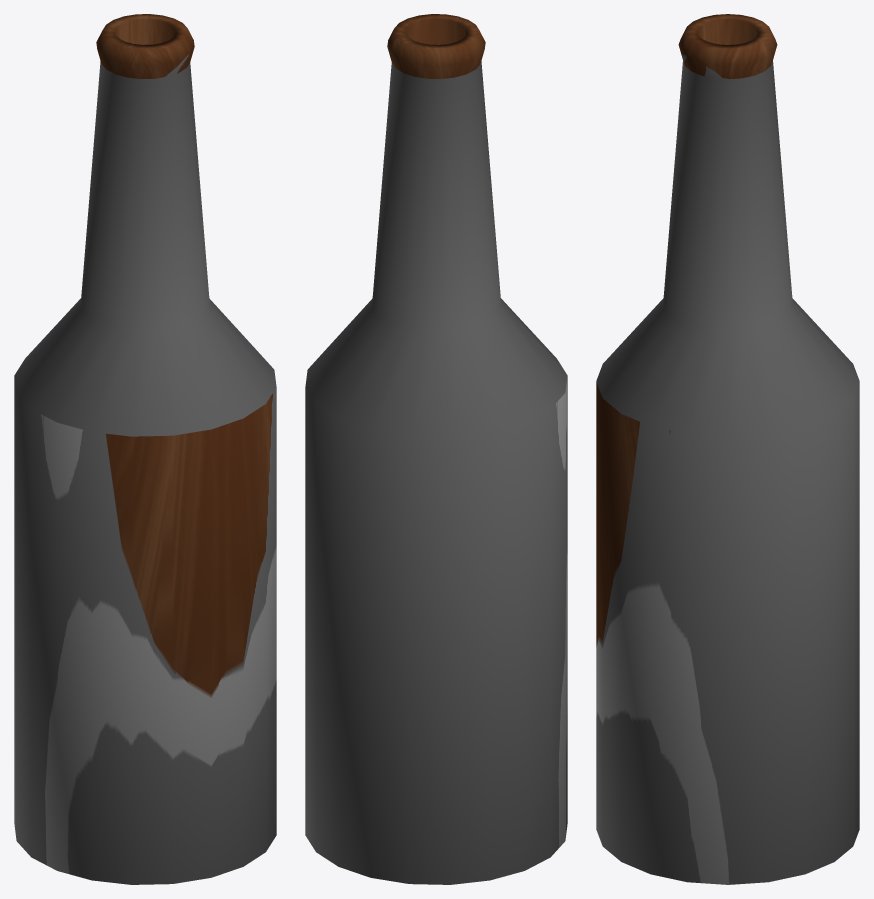
File: Garrafa.fbx
3 views of the same model, side by side, from view 1: azimuth 30°, elevation 25°; view 2: azimuth 150°, elevation 25°; view 3: azimuth 270°, elevation 25° (orthographic).
Visible parts, largest first — view 1: pCylinder52; view 2: pCylinder52; view 3: pCylinder52.
Part boxes in pixels (left/top/right/bottom): pCylinder52: left=14, top=14, right=276, bottom=884; pCylinder52: left=305, top=14, right=567, bottom=884; pCylinder52: left=596, top=14, right=859, bottom=884.
Size of the model in its own units: 6.58 by 21.96 by 6.58.
